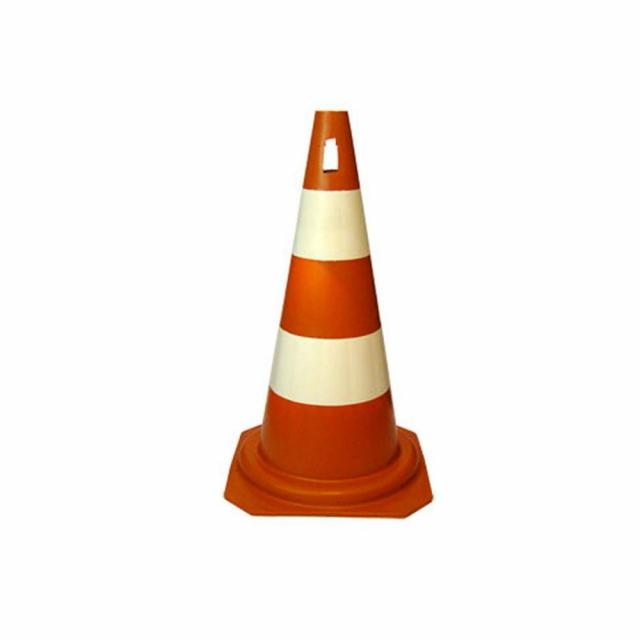cone: (248, 119, 406, 523)
